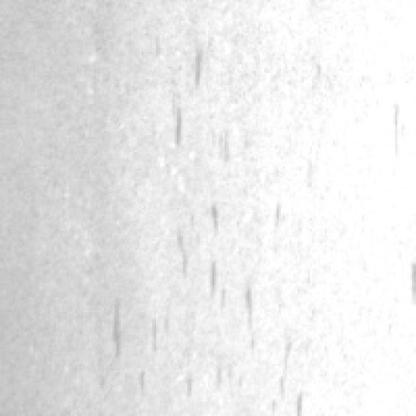inclusion: (152, 193, 274, 387)
